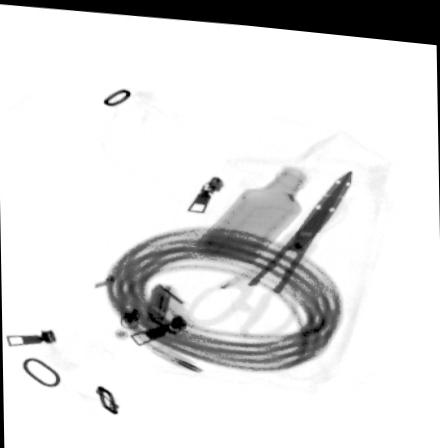Scissors: (180, 161, 352, 334)
